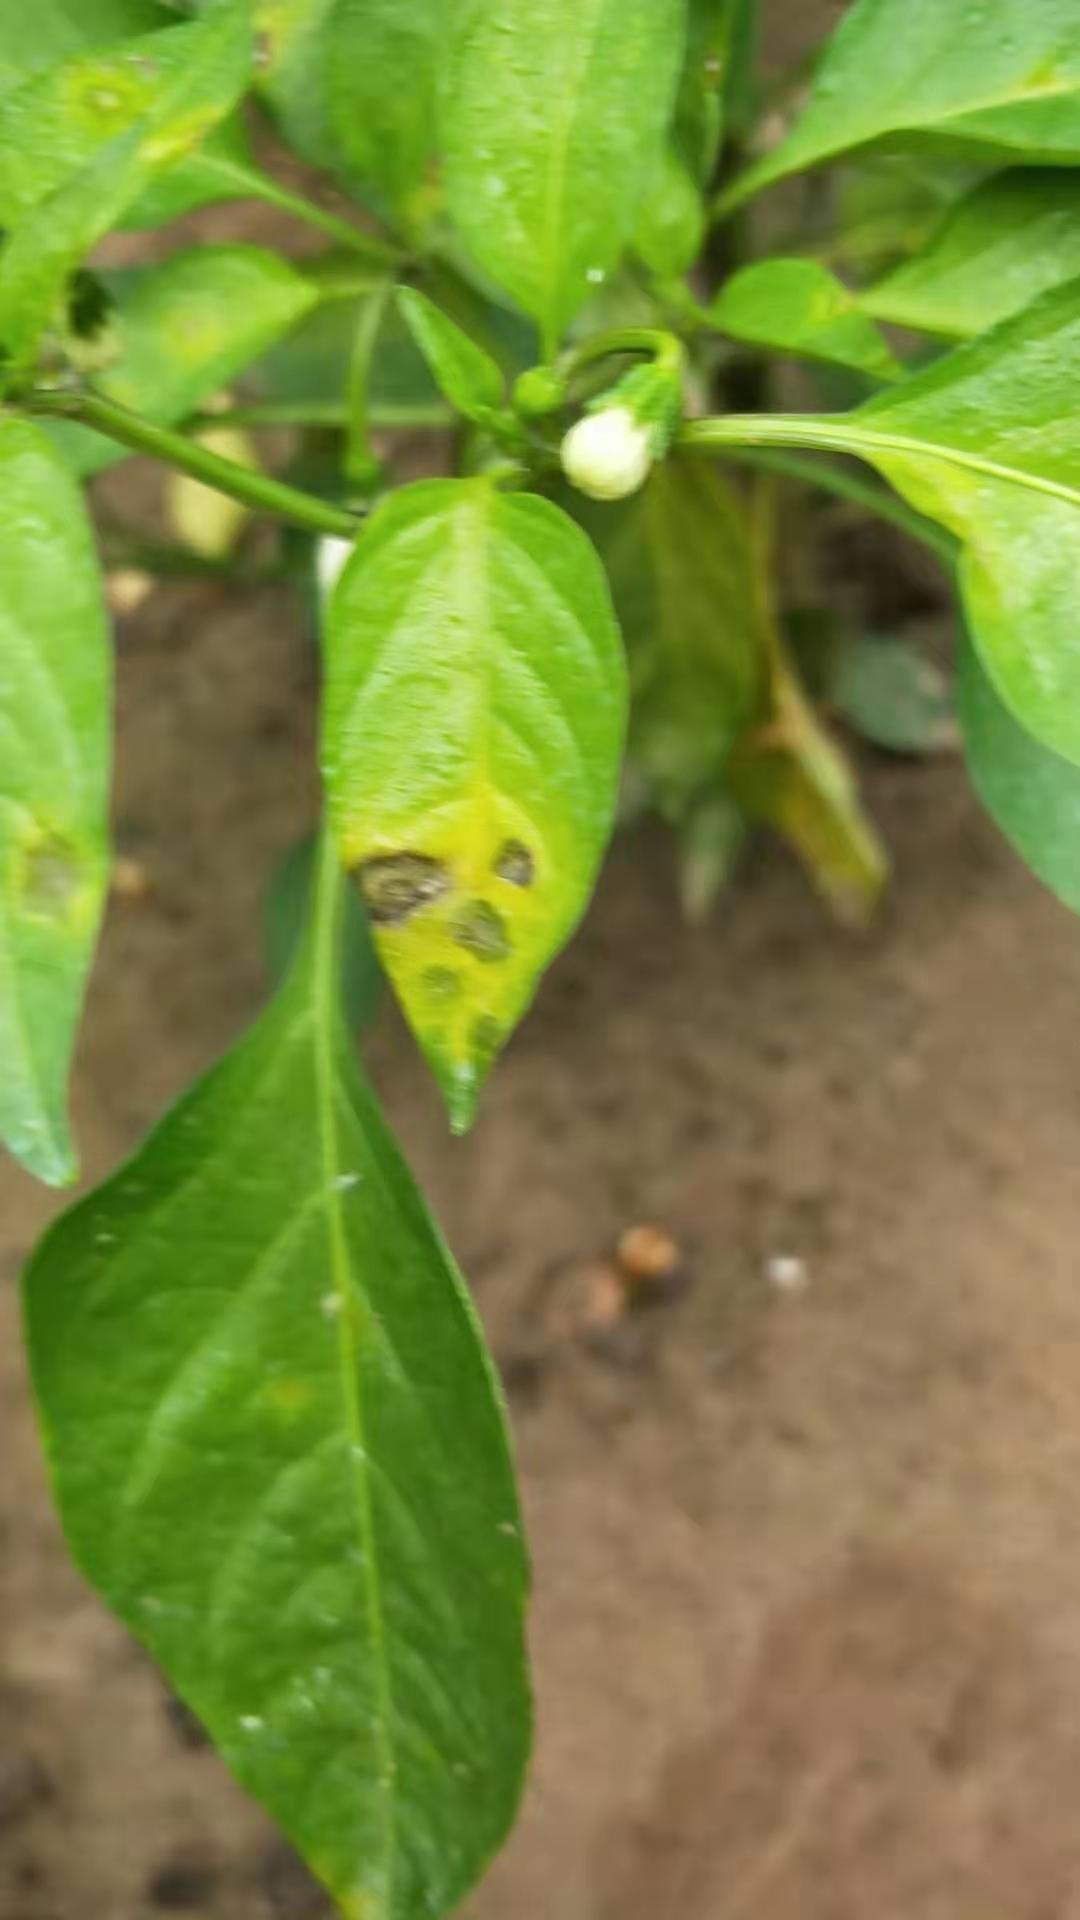Anthrax: (320, 463, 637, 1135)
